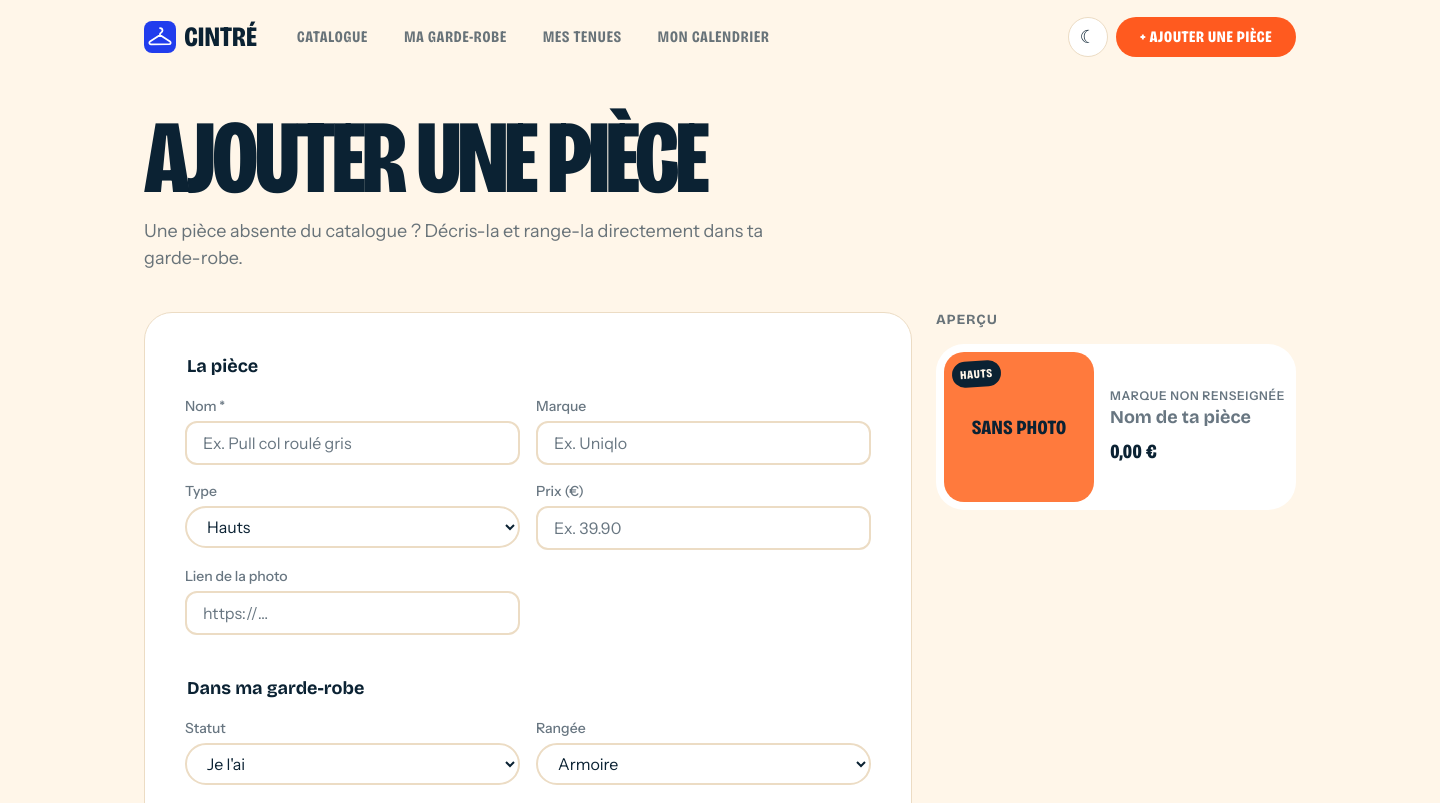
Scenario: Ajouter une pièce : enregistrement › vide le formulaire après un ajout réussi
Type "Veste en jean" into the field labelled "Nom *" at (352, 443), box [185,421,520,465]
(page scrolled)
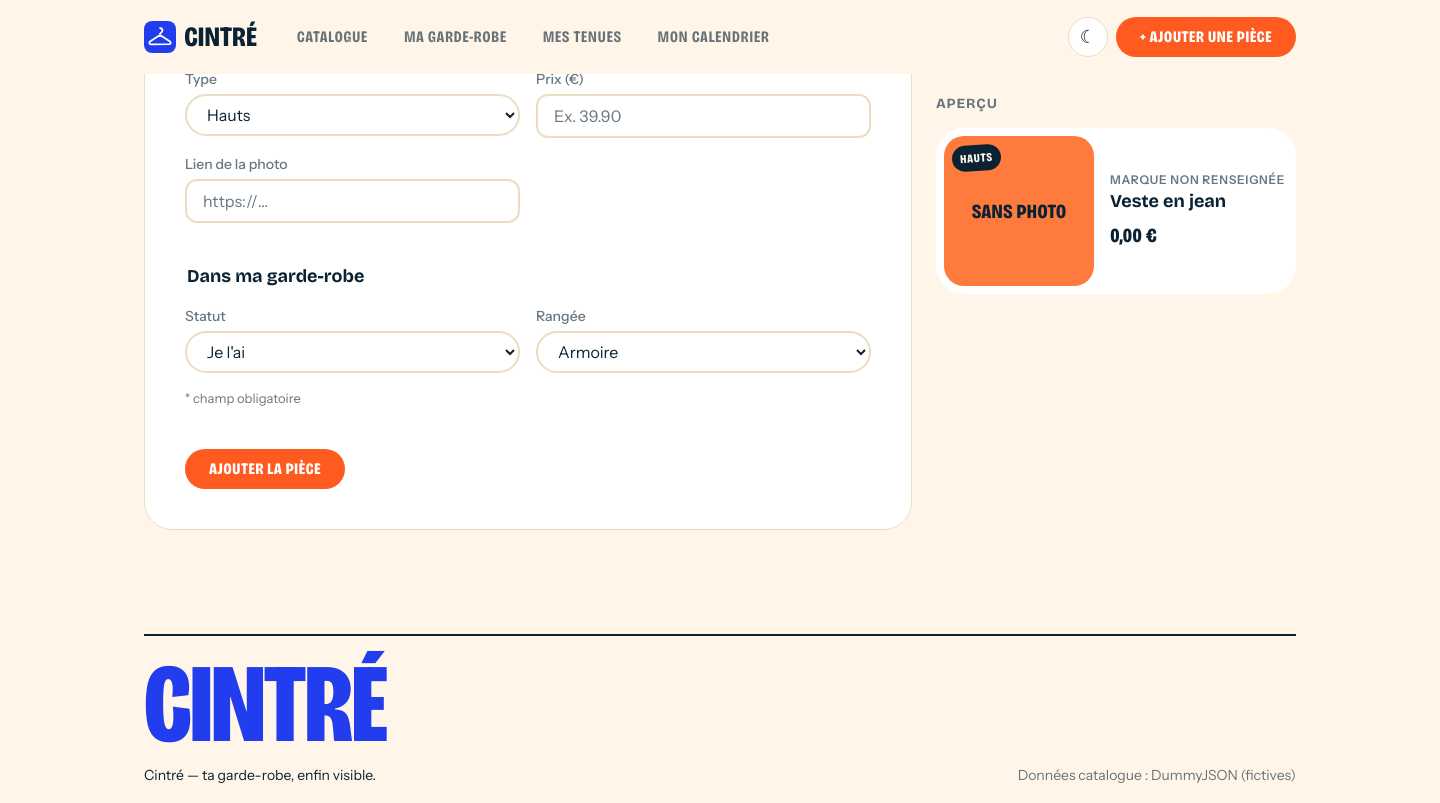
Click the button "Ajouter la pièce" at (265, 469), box [185,449,345,489]
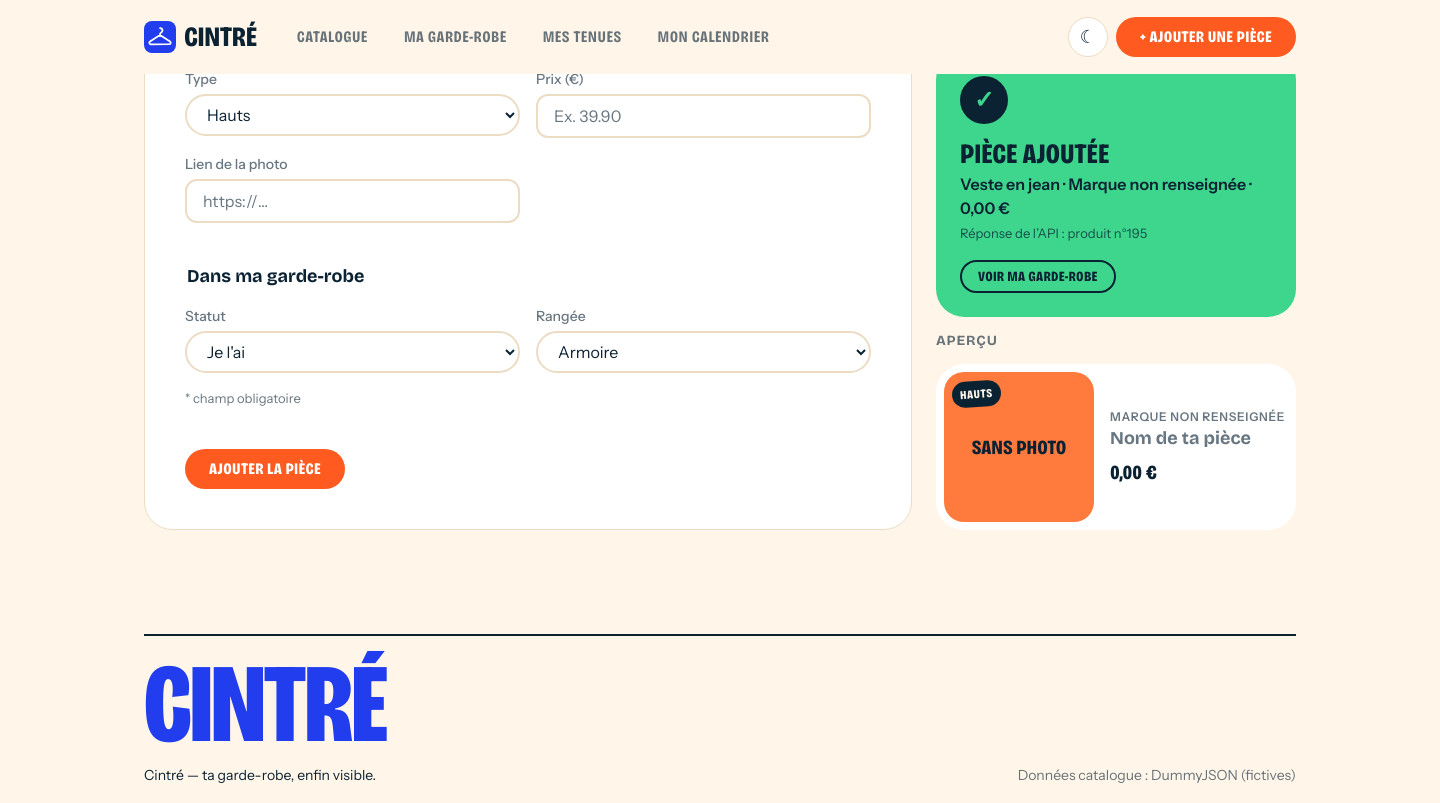
Expected: the field labelled "Nom *" is empty, [185,9,520,53]
Result: the text "Pièce ajoutée" is shown at [960,137,1109,171]
